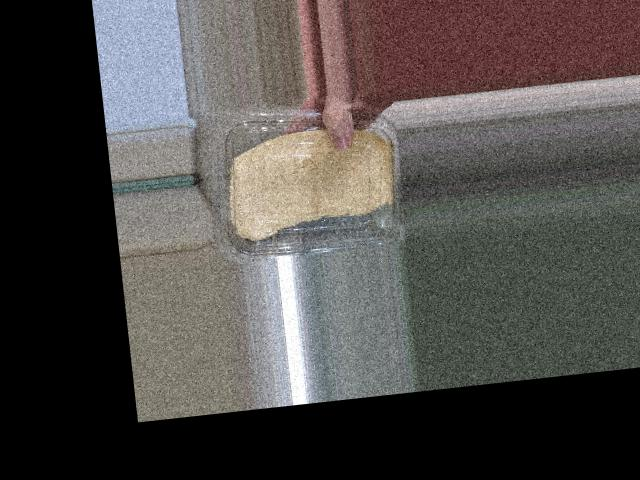cheese: (203, 112, 410, 265)
